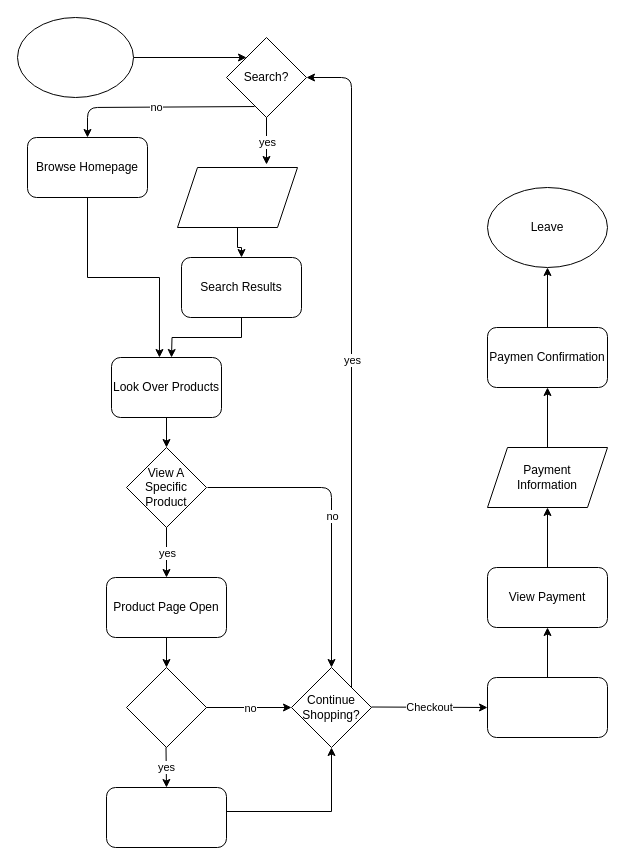
Some shapes in this 625 by 865 pixel diagram are drawn without their labels. The shapes that lost their labels are listed below. From the top down, each one's box as (x1, y1, x2, y2) in pixels, then its label:
(16, 16, 134, 98): Enter
(176, 166, 298, 228): Search Input
(126, 666, 206, 748): Add to Cart
(486, 676, 608, 738): View Cart
(106, 786, 226, 848): Add to Cart Confirmation
